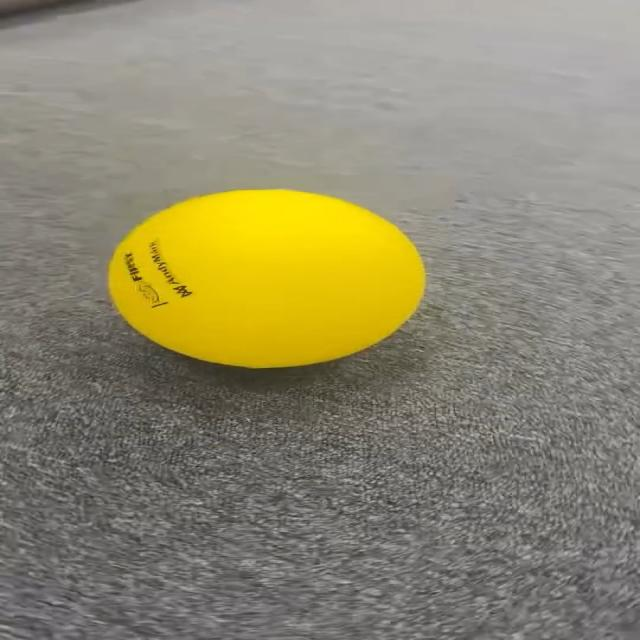Fuels: (110, 190, 421, 364)
